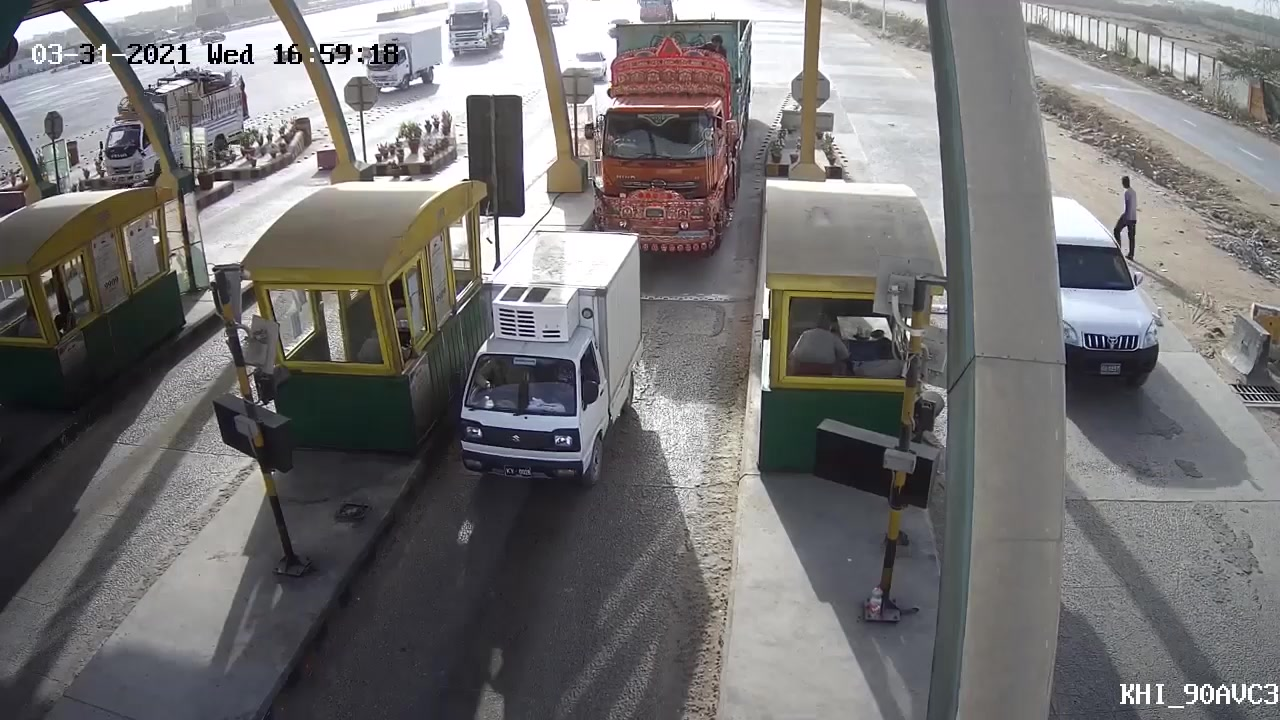F1: (446, 227, 652, 496)
F6: (582, 9, 758, 262)
